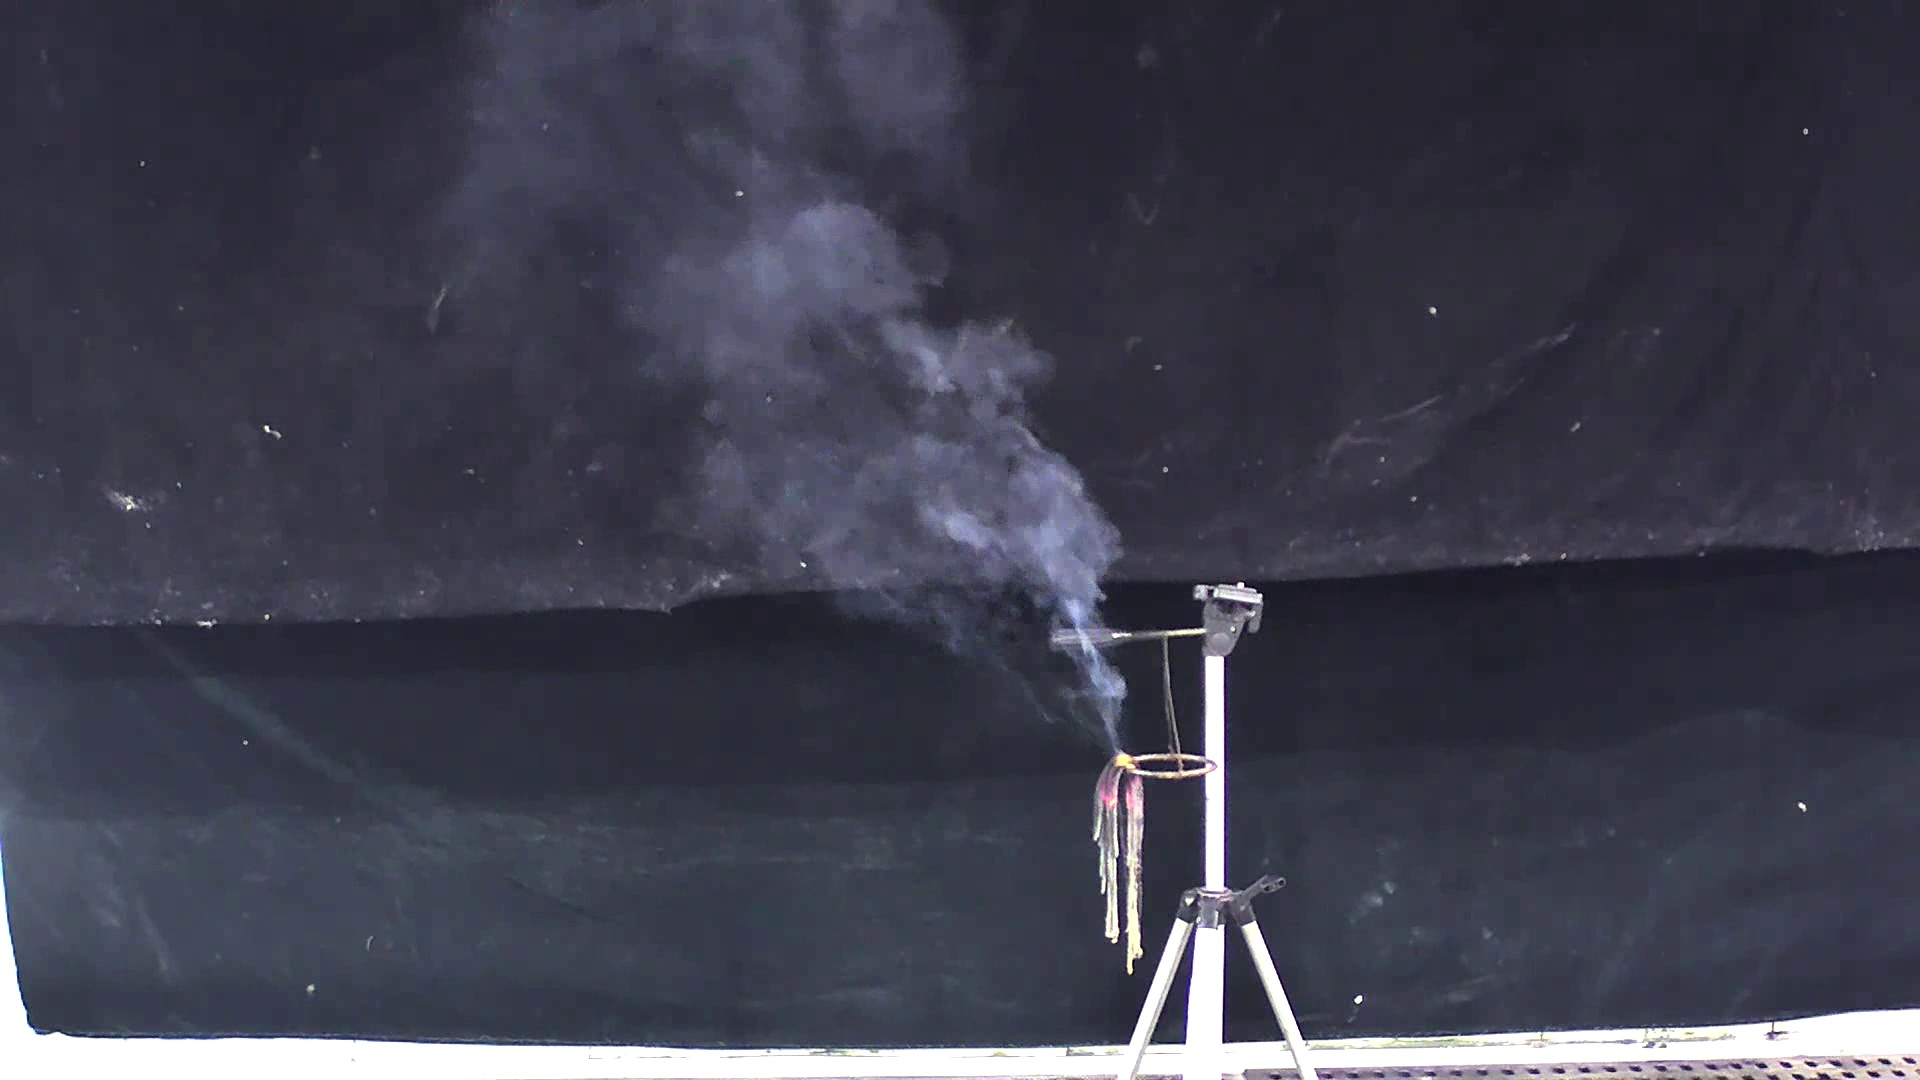smoke: (611, 149, 1133, 731)
